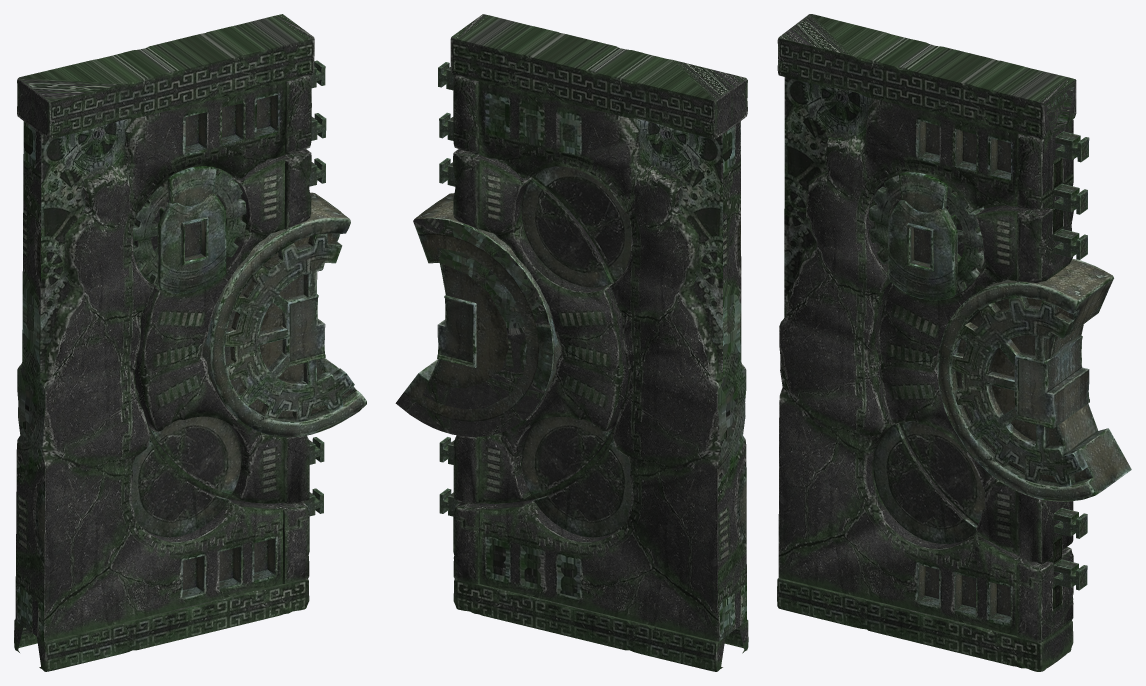
3 views of the same model, side by side, from view 1: azimuth 30°, elevation 25°; view 2: azimuth 150°, elevation 25°; view 3: azimuth 330°, elevation 25° (orthographic).
Visible parts, largest first — view 1: big ga551, big ga559, big ga558, big ga532, big ga531, big ga555; view 2: big ga551, big ga560, big ga554; view 3: big ga551, big ga558, big ga559, big ga532, big ga555, big ga531, big ga560, big ga554, big ga543, big ga544, big ga533, big ga541 (+1 smaller).
Part boxes in pixels (x1,y1,x2,y2): big ga551: [14, 14, 314, 671]; big ga559: [225, 233, 354, 422]; big ga558: [202, 205, 366, 437]; big ga532: [157, 166, 226, 294]; big ga531: [132, 168, 246, 285]; big ga555: [282, 294, 325, 366]; big ga551: [450, 14, 748, 671]; big ga560: [395, 205, 560, 436]; big ga554: [437, 295, 476, 367]; big ga551: [777, 14, 1076, 671]; big ga558: [937, 272, 1115, 501]; big ga559: [951, 297, 1088, 486]; big ga532: [888, 172, 957, 300]; big ga555: [1014, 348, 1074, 428]; big ga531: [868, 175, 985, 293]; big ga560: [1059, 258, 1131, 480]; big ga554: [1064, 335, 1089, 415]; big ga543: [1053, 508, 1087, 538]; big ga544: [1053, 559, 1087, 590]; big ga533: [1055, 131, 1089, 162]; big ga541: [1054, 229, 1087, 259].
Bounding box in the file's own units: 34.43 × 58.69 × 7.14.
